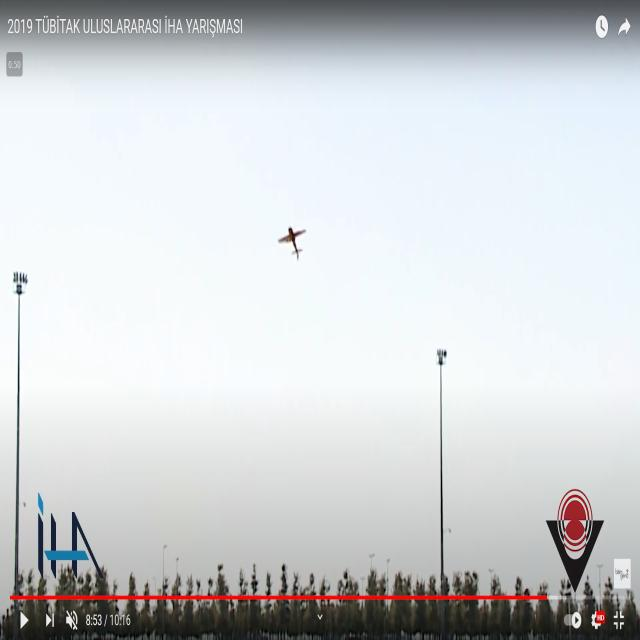iha: (277, 225, 307, 262)
